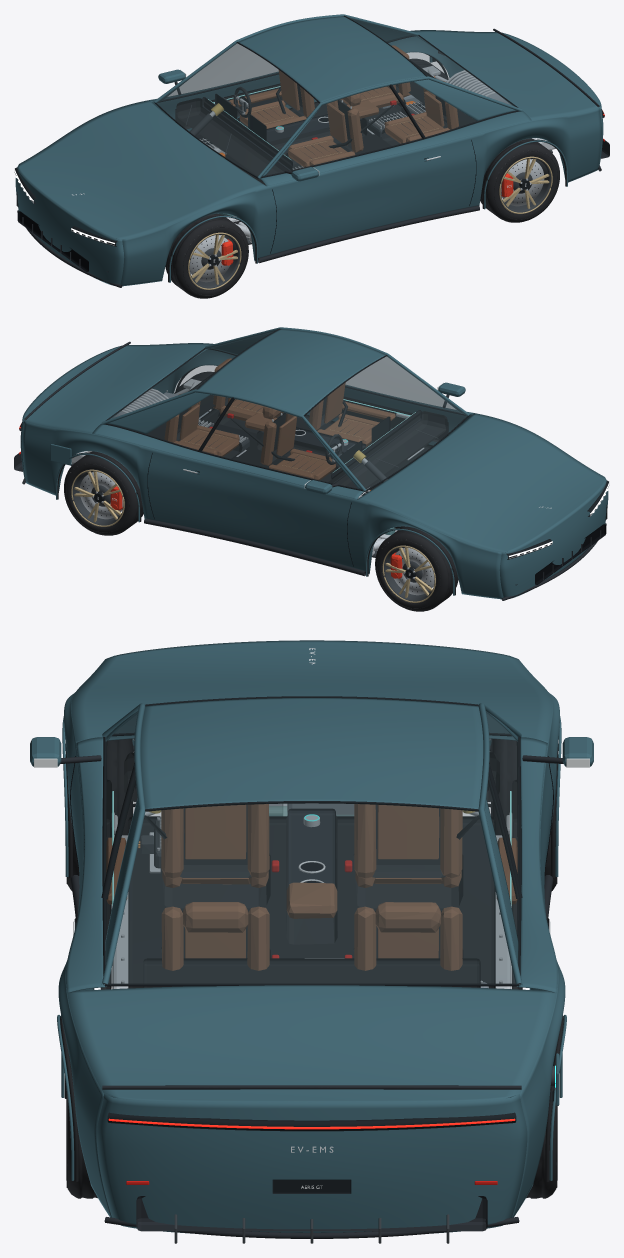
The model's file is ev-ems-gt.glb.
The picture shows the model from 3 angles, top to bottom: view 1: azimuth 30°, elevation 25°; view 2: azimuth 150°, elevation 25°; view 3: azimuth 270°, elevation 25°; orthographic projection. The views are drawn at different scales.
Parts seen in each view (by area): view 1: Body_Paint_AtlanticSilver, Glass_Glass_SmokedLaminated, Interior_GT_leather, Interior_GT_leather_dark, Wheel_FR_GT_tire, Wheel_RR_GT_tire, Body_GT_carbon, Body_GT_gloss_black, Interior_GT_carpet, Interior_GT_carbon, Wheel_RR_Alloy_ChampagneMachined, Wheel_FR_Alloy_ChampagneMachined (+11 smaller); view 2: Body_Paint_AtlanticSilver, Glass_Glass_SmokedLaminated, Interior_GT_leather, Interior_GT_leather_dark, Wheel_FL_GT_tire, Wheel_RL_GT_tire, Body_GT_carbon, Interior_GT_carpet, Body_GT_gloss_black, Interior_GT_carbon, Wheel_RL_Alloy_ChampagneMachined, Wheel_FL_Alloy_ChampagneMachined (+10 smaller); view 3: Body_Paint_AtlanticSilver, Glass_Glass_SmokedLaminated, Interior_GT_leather, Interior_GT_carpet, Interior_GT_leather_dark, Body_GT_gloss_black, Body_GT_carbon, Taillights_GT_gloss_black, Interior_GT_carbon, Chassis_GT_alloy, Body_GT_rubber, Wheel_FL_GT_tire (+4 smaller).
Boxes of the visible parts, bbox=[...] form: Body_Paint_AtlanticSilver: bbox=[15, 14, 603, 286]; Glass_Glass_SmokedLaminated: bbox=[157, 17, 514, 176]; Interior_GT_leather: bbox=[229, 45, 458, 167]; Interior_GT_leather_dark: bbox=[175, 83, 447, 175]; Wheel_FR_GT_tire: bbox=[165, 213, 248, 298]; Wheel_RR_GT_tire: bbox=[480, 138, 559, 222]; Body_GT_carbon: bbox=[17, 28, 609, 287]; Body_GT_gloss_black: bbox=[16, 15, 518, 272]; Interior_GT_carpet: bbox=[196, 60, 476, 185]; Interior_GT_carbon: bbox=[202, 97, 362, 170]; Wheel_RR_Alloy_ChampagneMachined: bbox=[499, 156, 552, 213]; Wheel_FR_Alloy_ChampagneMachined: bbox=[188, 232, 241, 289]; Body_Paint_AtlanticSilver: bbox=[20, 327, 608, 599]; Glass_Glass_SmokedLaminated: bbox=[109, 330, 466, 489]; Interior_GT_leather: bbox=[164, 358, 395, 480]; Interior_GT_leather_dark: bbox=[176, 396, 448, 488]; Wheel_FL_GT_tire: bbox=[375, 526, 458, 611]; Wheel_RL_GT_tire: bbox=[64, 451, 143, 535]; Body_GT_carbon: bbox=[14, 341, 606, 600]; Interior_GT_carpet: bbox=[147, 372, 432, 490]; Body_GT_gloss_black: bbox=[104, 328, 607, 585]; Interior_GT_carbon: bbox=[261, 410, 421, 483]; Wheel_RL_Alloy_ChampagneMachined: bbox=[71, 469, 124, 526]; Wheel_FL_Alloy_ChampagneMachined: bbox=[382, 545, 435, 602]; Body_Paint_AtlanticSilver: bbox=[30, 640, 593, 1233]; Glass_Glass_SmokedLaminated: bbox=[105, 712, 518, 983]; Interior_GT_leather: bbox=[106, 804, 517, 970]; Interior_GT_carpet: bbox=[128, 815, 495, 988]; Interior_GT_leather_dark: bbox=[100, 752, 522, 989]; Body_GT_gloss_black: bbox=[74, 696, 549, 1193]; Body_GT_carbon: bbox=[60, 745, 563, 1238]; Taillights_GT_gloss_black: bbox=[107, 1112, 516, 1131]; Interior_GT_carbon: bbox=[135, 784, 488, 886]; Chassis_GT_alloy: bbox=[112, 738, 511, 988]; Body_GT_rubber: bbox=[60, 743, 563, 1181]; Wheel_FL_GT_tire: bbox=[491, 739, 557, 890].
Size of the model in its own units: 4.43 by 1.3 by 2.07.
